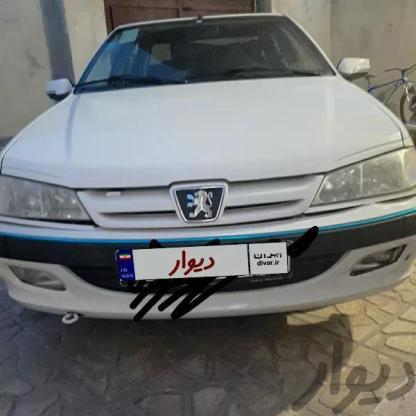Car: (0, 11, 416, 338)
